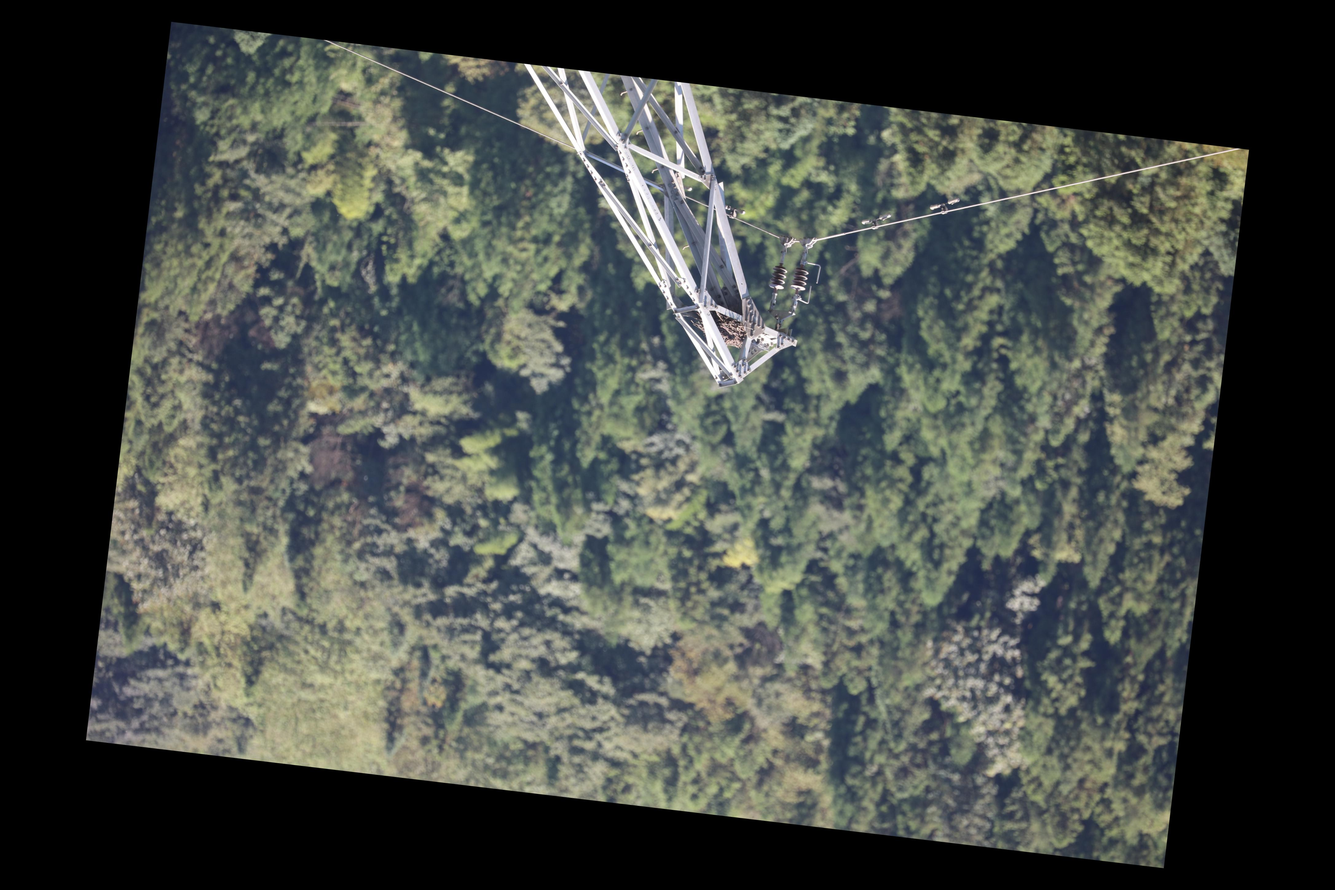damper: (926, 190, 963, 219), (858, 207, 894, 234), (722, 202, 748, 222)
